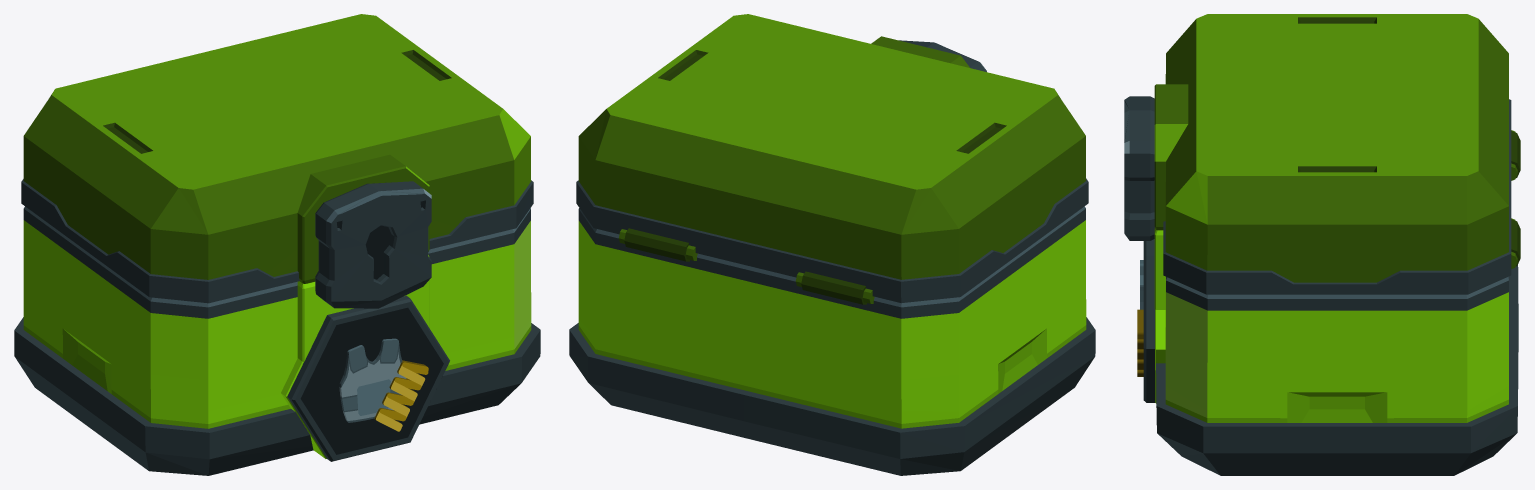
The model's file is BOX_MATERAL_G2_04.fbx.
3 views of the same model, side by side, from view 1: azimuth 30°, elevation 25°; view 2: azimuth 150°, elevation 25°; view 3: azimuth 270°, elevation 25° (orthographic). The views are drawn at different scales.
Parts seen in each view (by area): view 1: Object003, BOX_MATERAL_G2_04, Object004; view 2: Object003, BOX_MATERAL_G2_04; view 3: Object003, BOX_MATERAL_G2_04, Object004.
Part boxes in pixels (left/top/right/bottom): Object003: left=21, top=14, right=533, bottom=303; BOX_MATERAL_G2_04: left=14, top=206, right=540, bottom=475; Object004: left=315, top=181, right=431, bottom=308; Object003: left=576, top=14, right=1088, bottom=304; BOX_MATERAL_G2_04: left=569, top=206, right=1095, bottom=475; Object003: left=1154, top=14, right=1520, bottom=294; BOX_MATERAL_G2_04: left=1137, top=228, right=1518, bottom=475; Object004: left=1124, top=96, right=1154, bottom=240.
Size of the model in its own units: 187 by 128 by 158.
